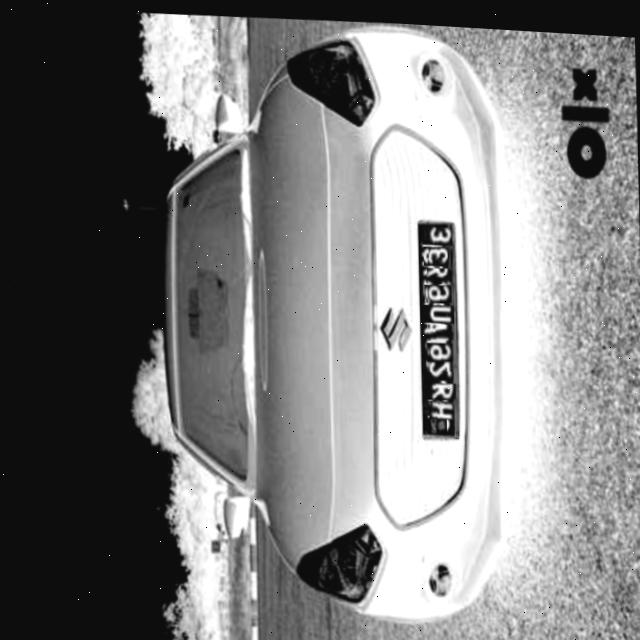1: (425, 260, 451, 277)
2: (427, 354, 453, 374)
3: (425, 220, 451, 239), (427, 240, 447, 260)
9: (428, 336, 452, 356), (427, 278, 451, 297)
A: (428, 317, 453, 335)
H: (428, 393, 452, 412)
IND: (428, 409, 446, 428)
Indian_registered: (417, 215, 457, 431)
R: (427, 376, 455, 394)
U: (425, 298, 453, 317)
